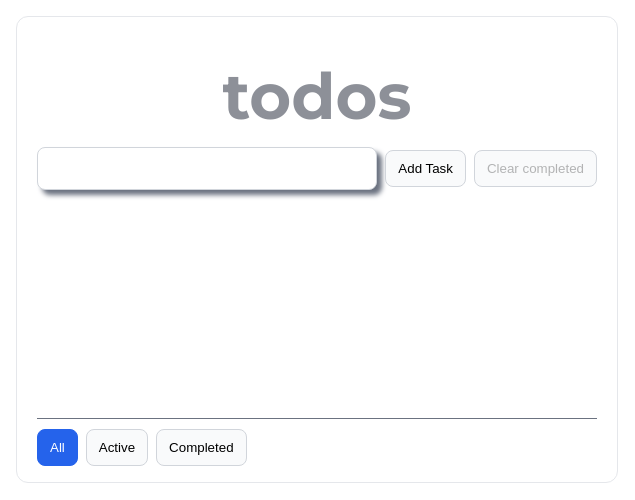
Test case: Todos App › the completed button should switch
This screenshot has width=635, height=500.
Type "New task" into the field with test id "title-input" at point(207, 168), box [37,147,377,190]
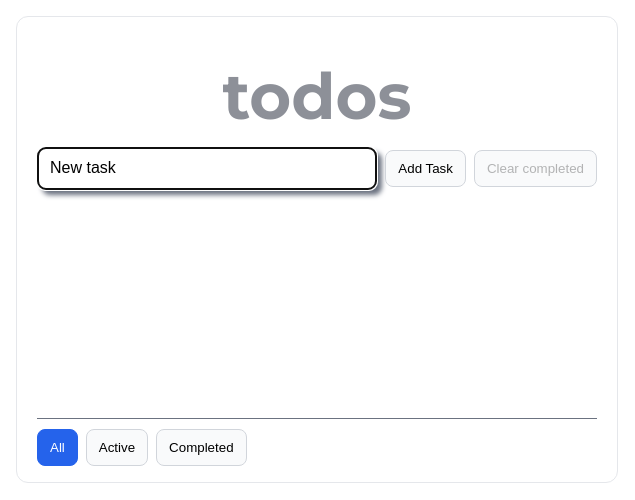
Click the button "Add Task" at point(426, 168), box [385,150,466,187]
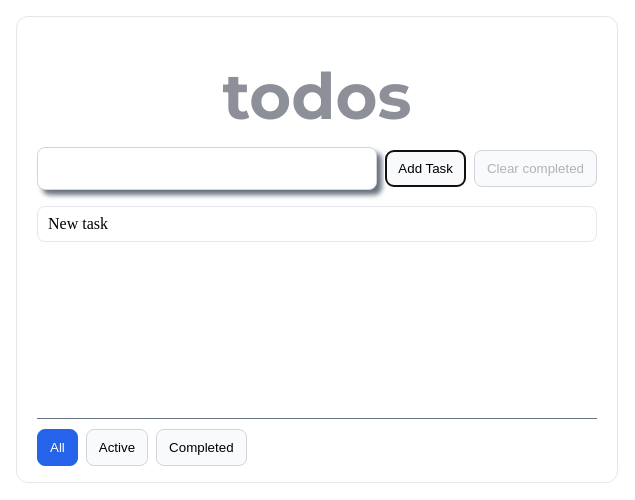
Expected: the checkbox is not checked
Click the checkbox at point(78, 223), box [48,215,108,232]
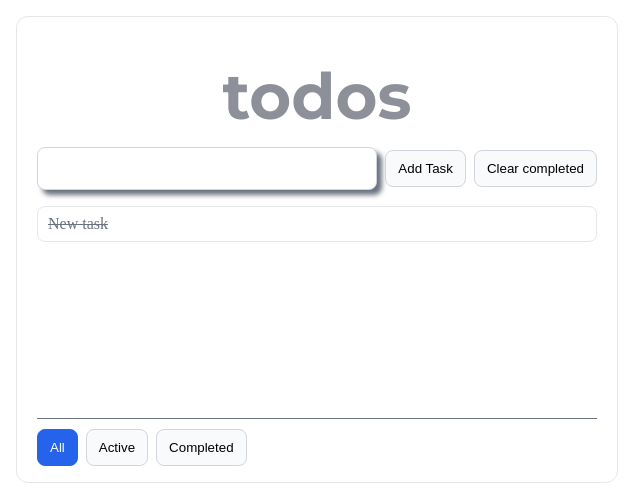
Expected: the checkbox is checked, [48,215,108,232]
Expected: the button "Clear completed" is enabled, [474,150,597,187]
